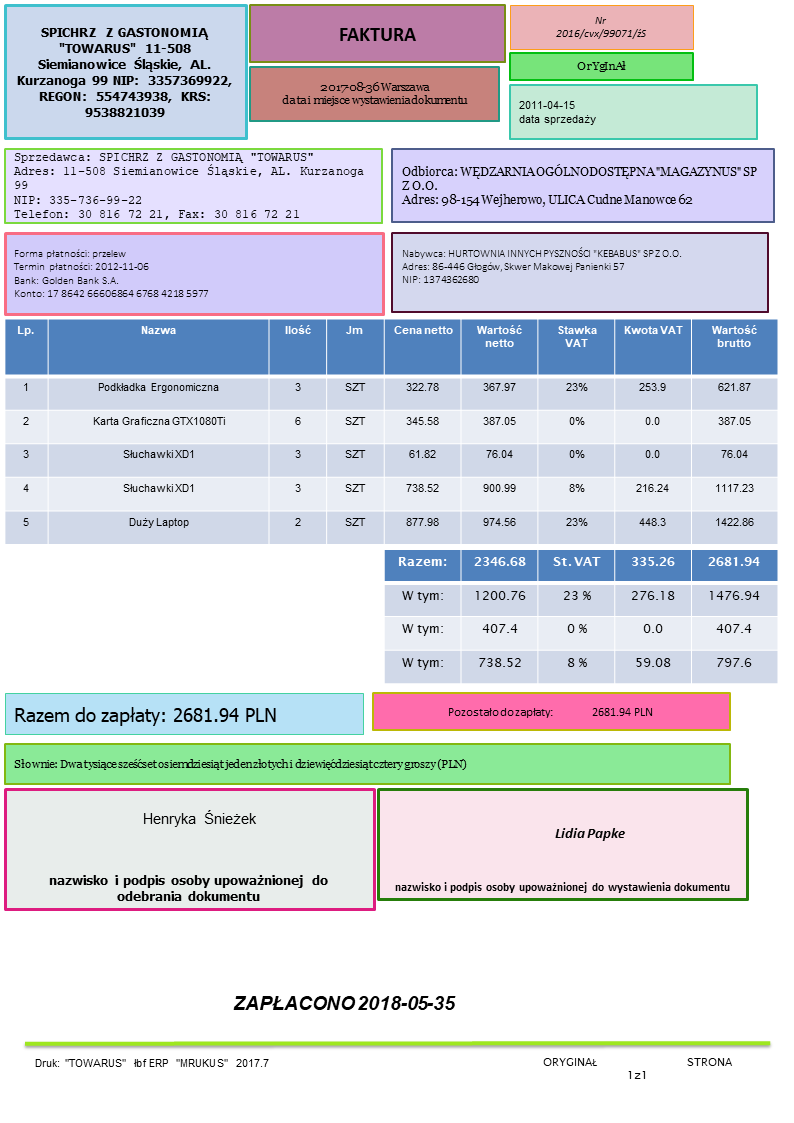Table: (3, 318, 779, 546), (384, 547, 778, 682)
TextBox: (12, 149, 367, 221), (14, 21, 234, 123), (399, 161, 760, 210), (398, 246, 683, 287), (10, 245, 211, 303), (45, 870, 330, 904), (11, 755, 469, 773), (393, 877, 731, 897), (12, 704, 280, 727), (540, 1054, 734, 1083), (280, 79, 470, 108), (230, 990, 458, 1014), (30, 1054, 271, 1070), (445, 704, 653, 721), (552, 12, 648, 43), (515, 97, 596, 128), (140, 808, 258, 829), (334, 22, 418, 45), (551, 826, 626, 843), (575, 56, 628, 74)
